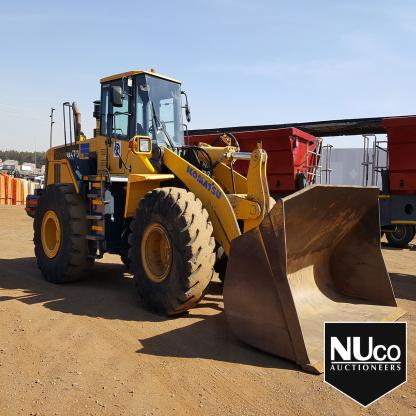bull_dozer/loader/grader: (25, 58, 411, 380)
